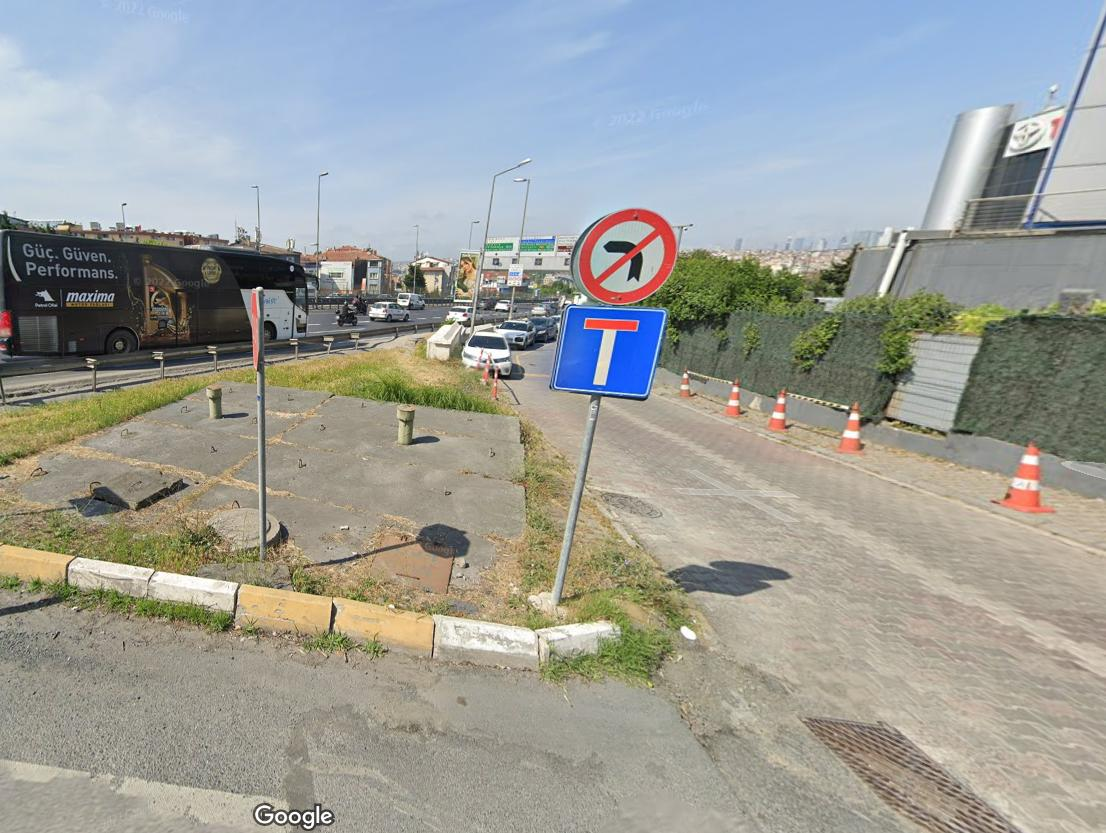leftturnsareforbidden: (577, 205, 683, 303)
